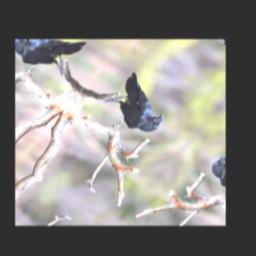Crow: (97, 69, 183, 140)
